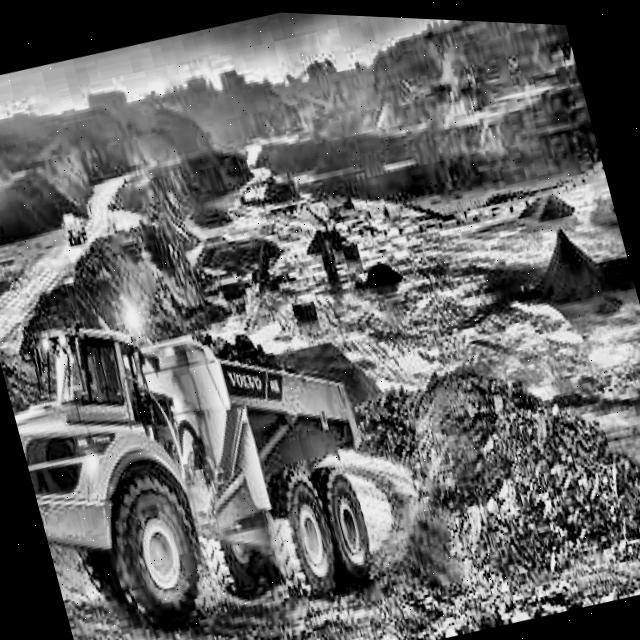dump_truck: (0, 217, 416, 640)
